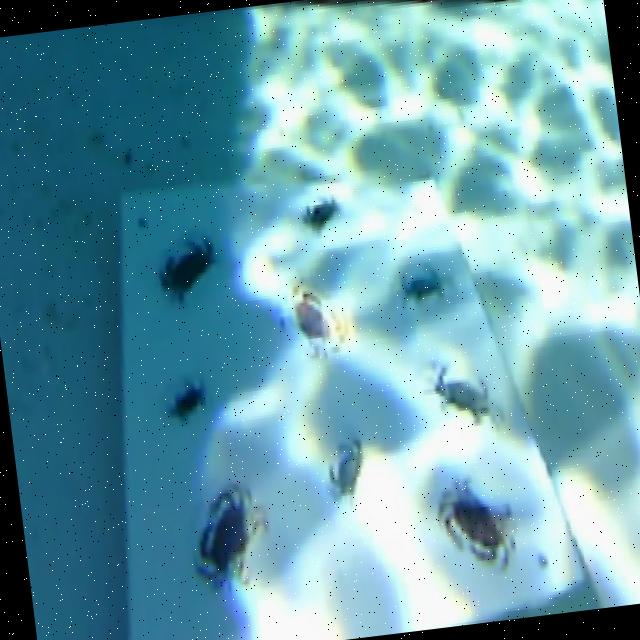green_crab: (432, 367, 489, 420), (399, 262, 445, 301), (169, 382, 204, 419)
jonah_crab: (196, 484, 265, 581), (438, 480, 513, 566), (290, 287, 346, 352)
rock_crab: (158, 235, 214, 300), (328, 442, 361, 497), (302, 197, 339, 230)
